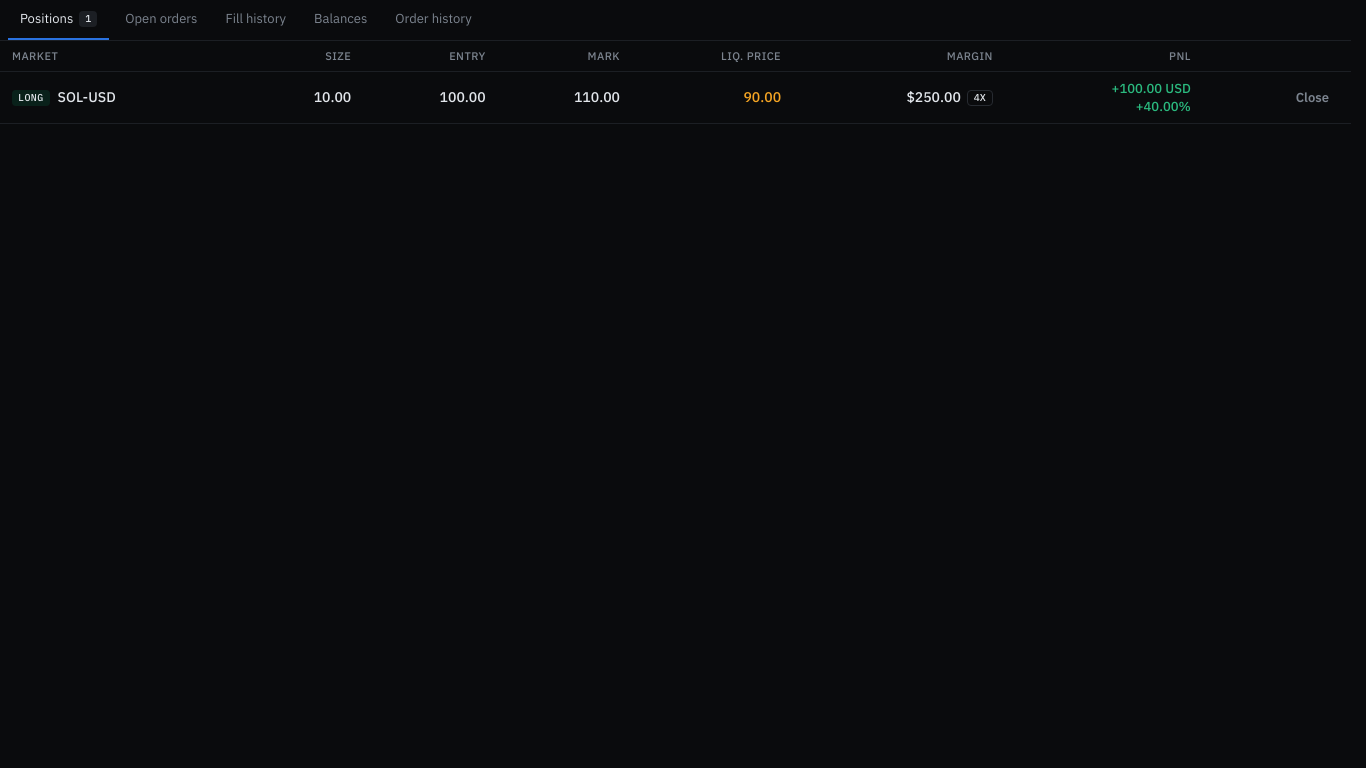
closing a position › confirms first, and issues NO request until it is confirmed
Click the button "Close".
click(1312, 98)  # box [1286,84,1339,112]
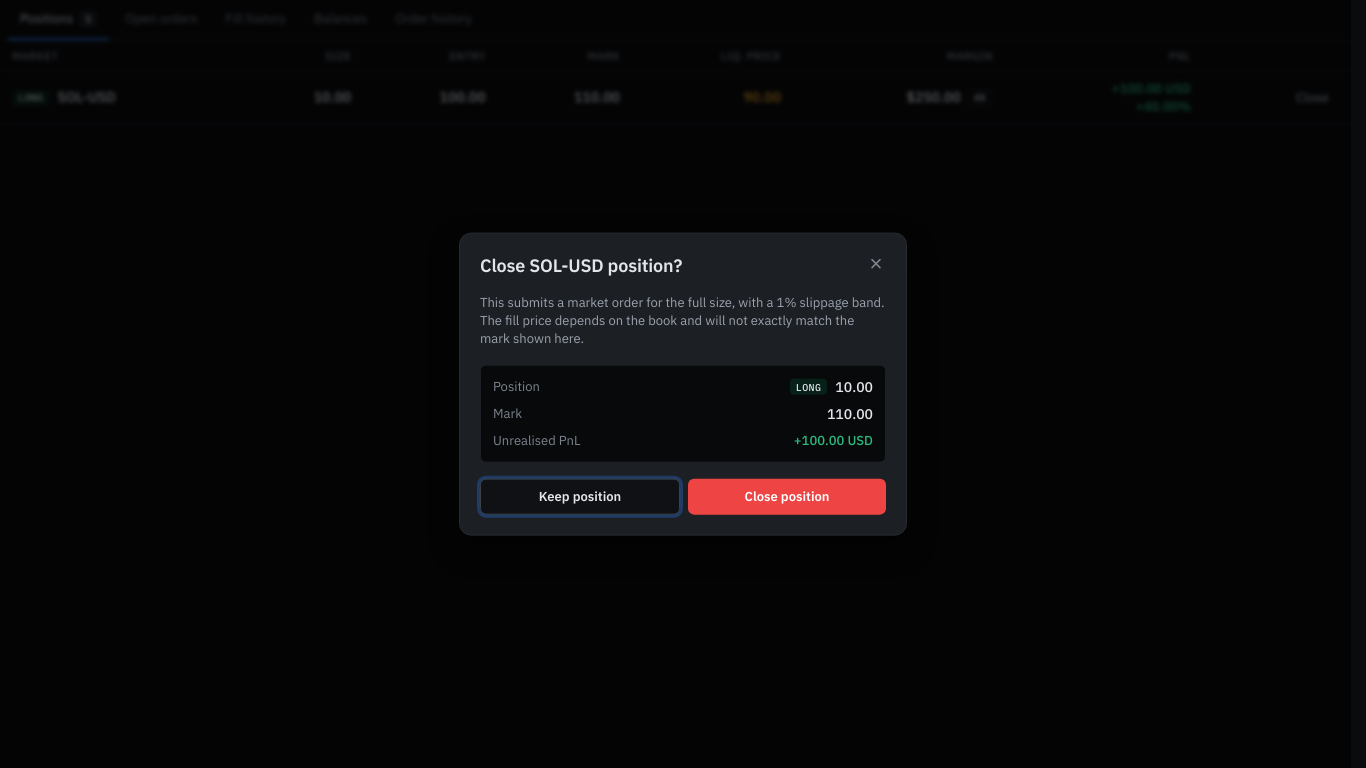
Now the heading "Close SOL-USD position?" is shown, box [480,254,682,277]
